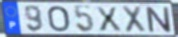5: (71, 4, 96, 34)
9: (23, 4, 44, 34)
N: (143, 5, 173, 33)
O: (46, 5, 71, 33)
X: (94, 6, 124, 33), (121, 5, 148, 34)
